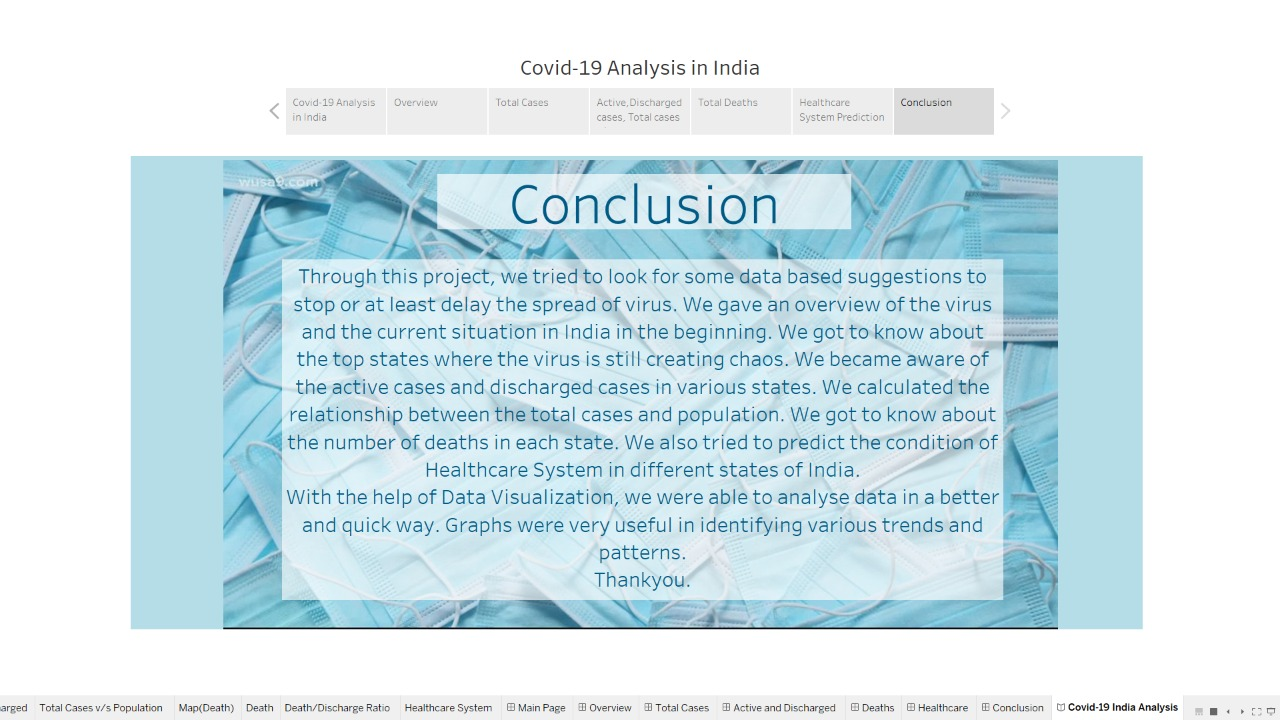

The page's visual inventory and layout, read from the dashboard file:
{"tool":"tableau","page":{"name":"Conclusion","canvas":[1500,700],"ordinal":1},"visuals":[{"type":"text","box":[446,19,621,83]},{"type":"text","box":[213,147,1082,511]}]}

Visuals, with their boxes on the page's 1500x700 design canvas (x1, y1, x2, y2). These are canvas units, not pixel positions in the 1280x720 screenshot, which may show the page scaled, cropped or inside an application window:
text: bbox=[446, 19, 1067, 102]
text: bbox=[213, 147, 1295, 658]
